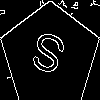S: (25, 30, 69, 85)
